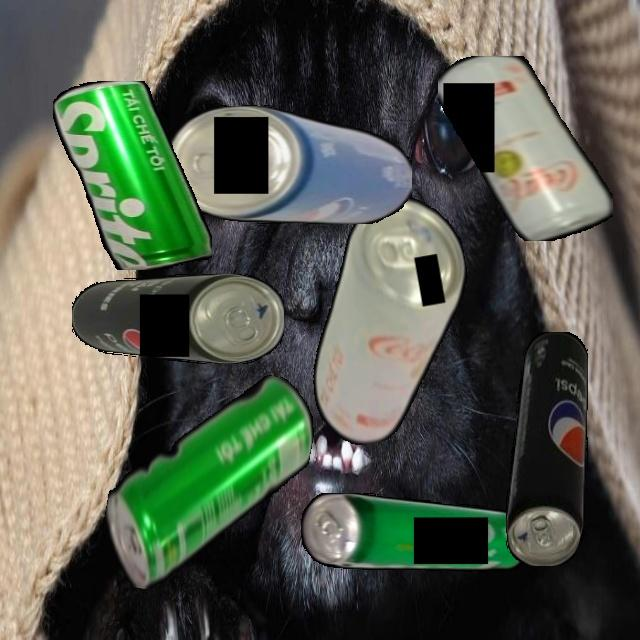debris: (94, 352, 322, 613), (284, 187, 493, 452), (438, 55, 613, 241), (53, 80, 212, 270), (167, 104, 412, 224), (505, 331, 588, 566), (71, 274, 284, 364), (301, 492, 529, 573)
